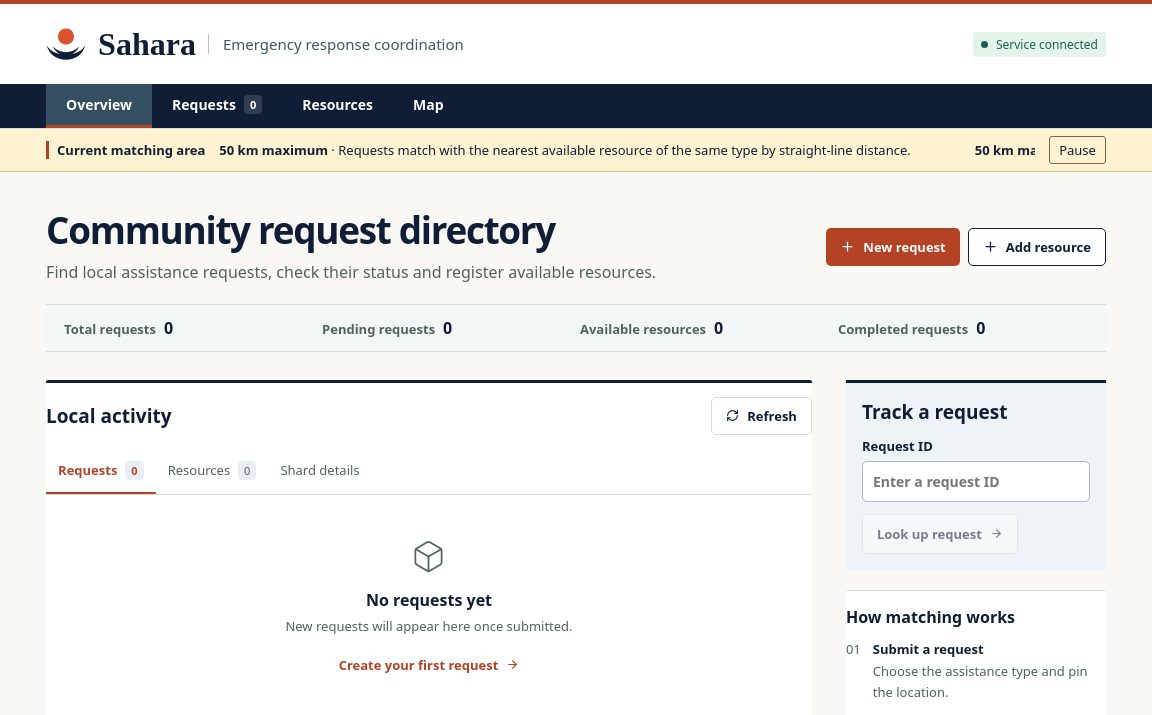
Test case: keeps a request lookup error visible after a successful background refresh
Step 1. Type "missing" into the field labelled "Request ID" → (976, 481), box top-left (862, 461), bottom-right (1090, 502)
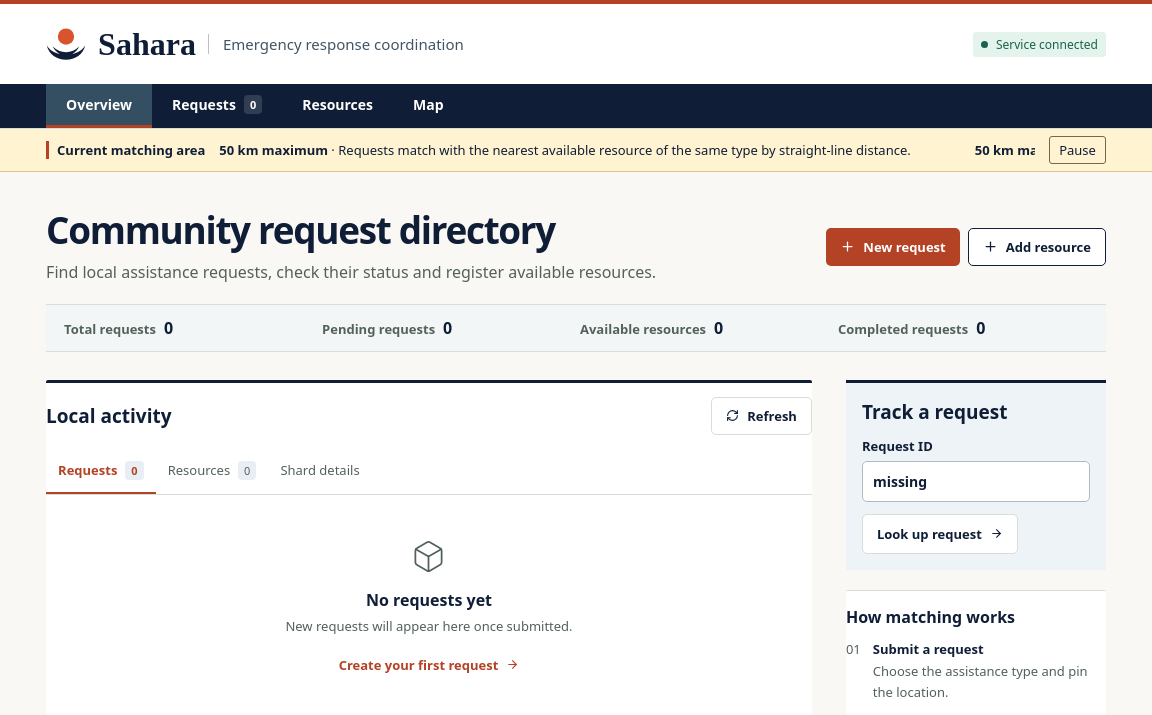
Step 2. Click the button "Look up request" → (940, 534), box top-left (862, 514), bottom-right (1018, 554)
Wait 15000 ms
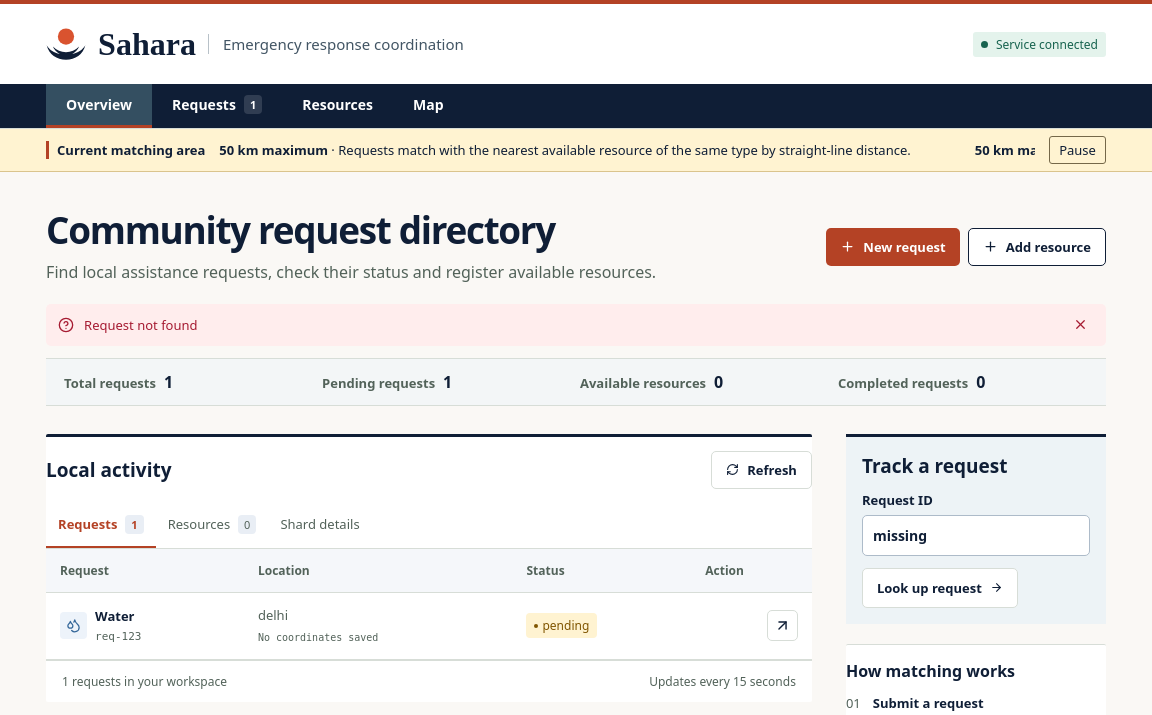
Check: the element labelled "Pending requests" shows "1", box top-left (443, 371), bottom-right (452, 393)
Check: the message reads "Request not found", box top-left (84, 316), bottom-right (198, 334)
